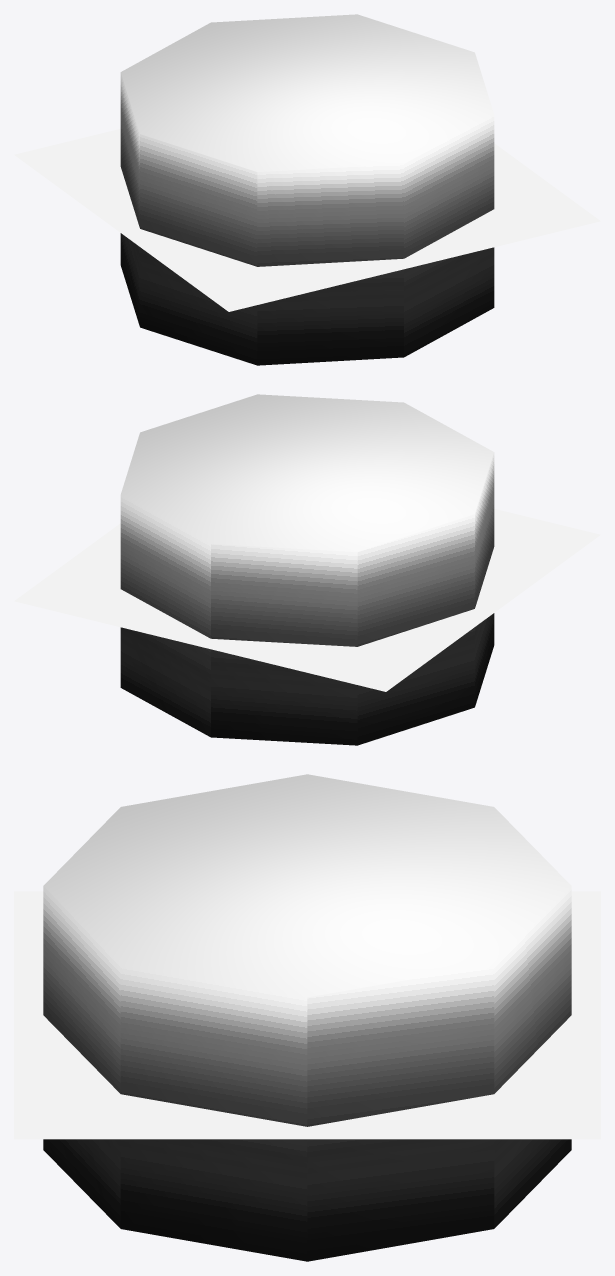
The model's file is RoomEscape.glb.
The picture shows the model from 3 angles, top to bottom: view 1: azimuth 30°, elevation 25°; view 2: azimuth 150°, elevation 25°; view 3: azimuth 270°, elevation 25°; orthographic projection. The views are drawn at different scales.
Parts seen in each view (by area): view 1: Cylinder.001; view 2: Cylinder.001; view 3: Cylinder.001.
Boxes of the visible parts, x1=… form: Cylinder.001: x1=14, y1=14, x2=600, y2=365; Cylinder.001: x1=14, y1=394, x2=600, y2=745; Cylinder.001: x1=14, y1=774, x2=600, y2=1261.
Bounding box in the file's own units: 7.69 × 3.82 × 7.69.
Materials: 1 (1 with a texture image).
